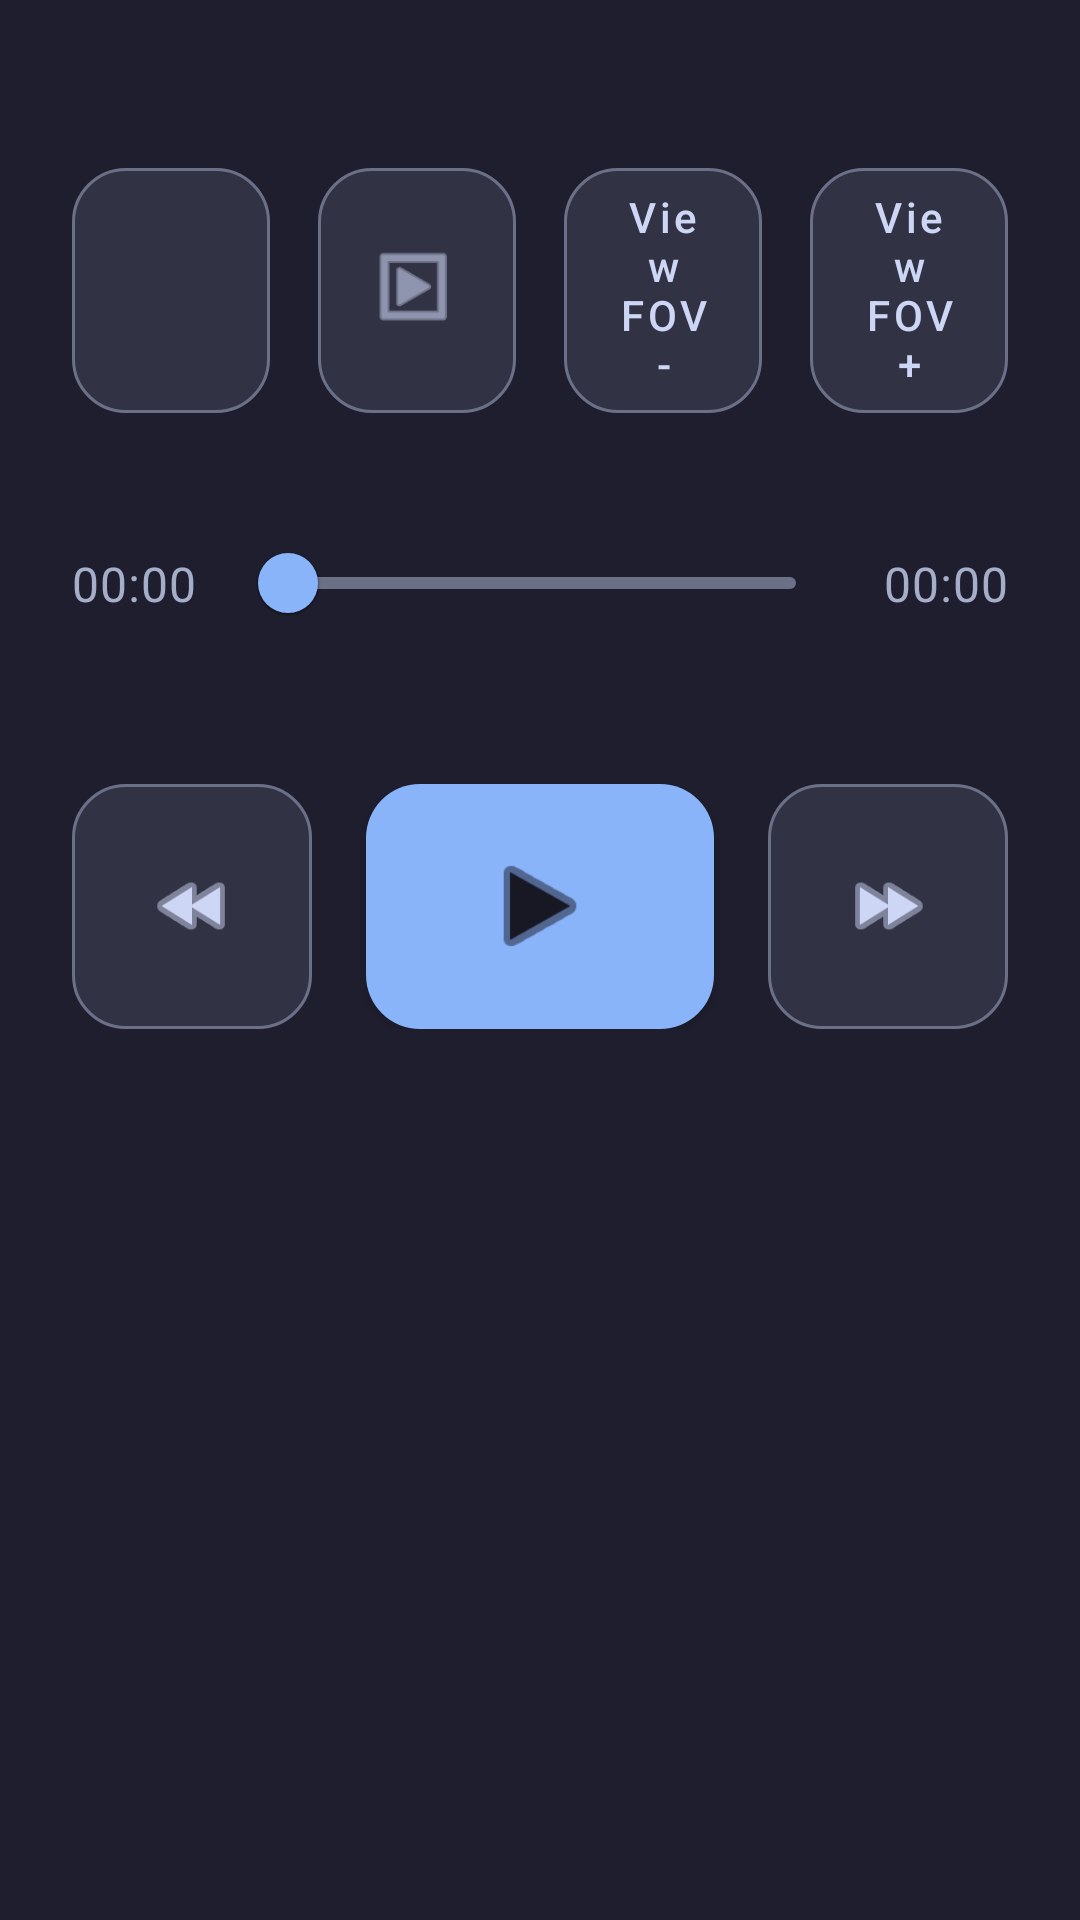

Icons on this 1080w x 1920h Android screen, each with the point to tap as [x,y]:
Play: [540,906]
Seek backward 15 seconds: [192,906]
Seek forward 15 seconds: [888,906]
